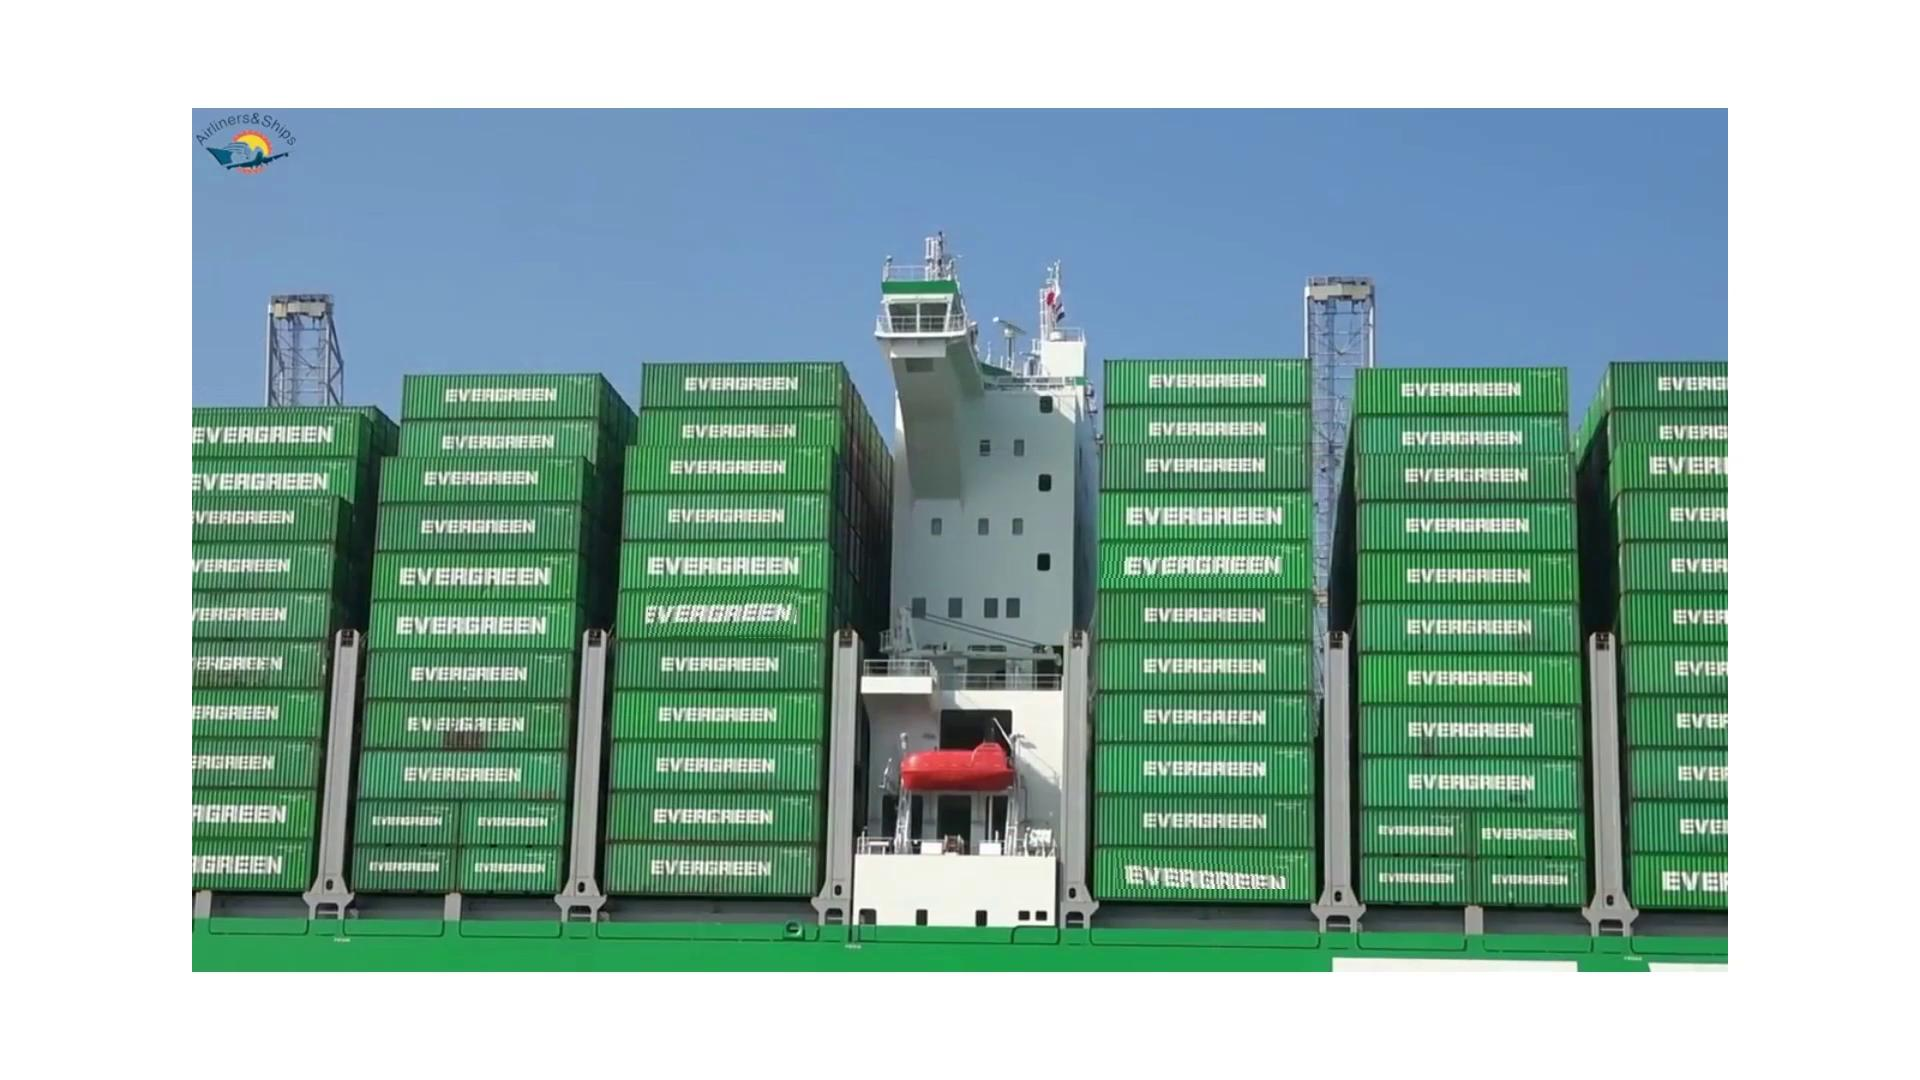OCR: (647, 583, 802, 640), (1102, 539, 1288, 579), (1113, 852, 1288, 889)
